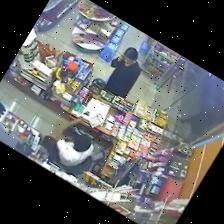person: (106, 48, 140, 98), (42, 134, 94, 166)
